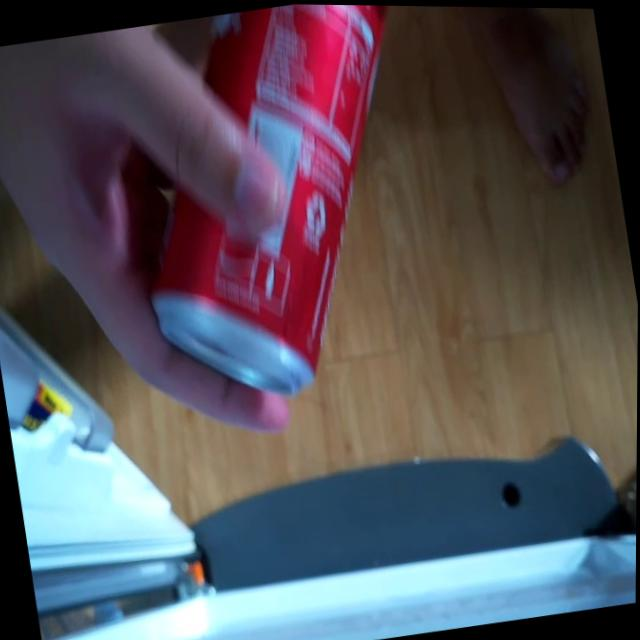coke: (102, 1, 452, 420)
